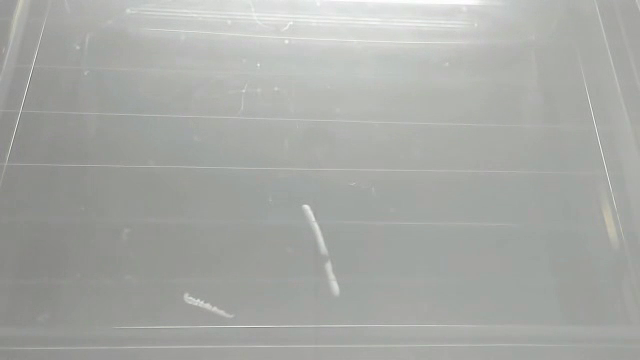alpha: (299, 199, 347, 298), (179, 290, 238, 321)
